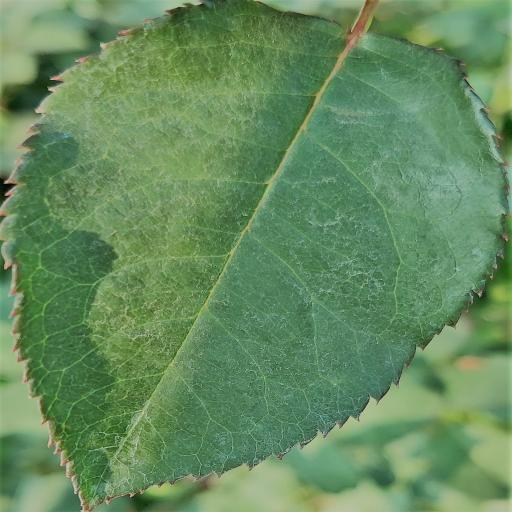healthy_leaf: (0, 0, 509, 510)
